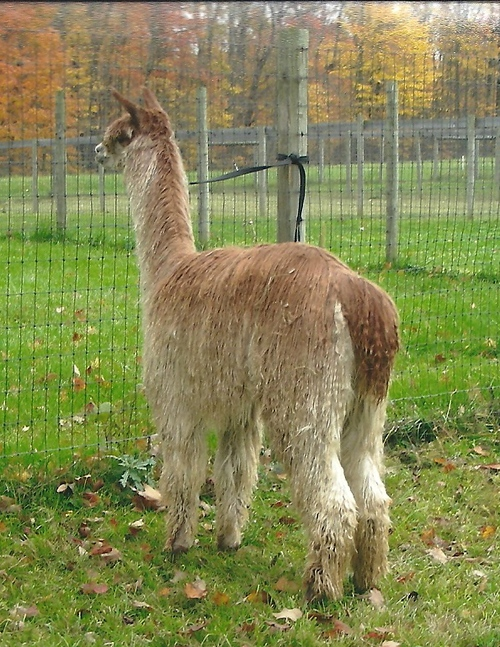alpaca: (94, 84, 401, 617)
